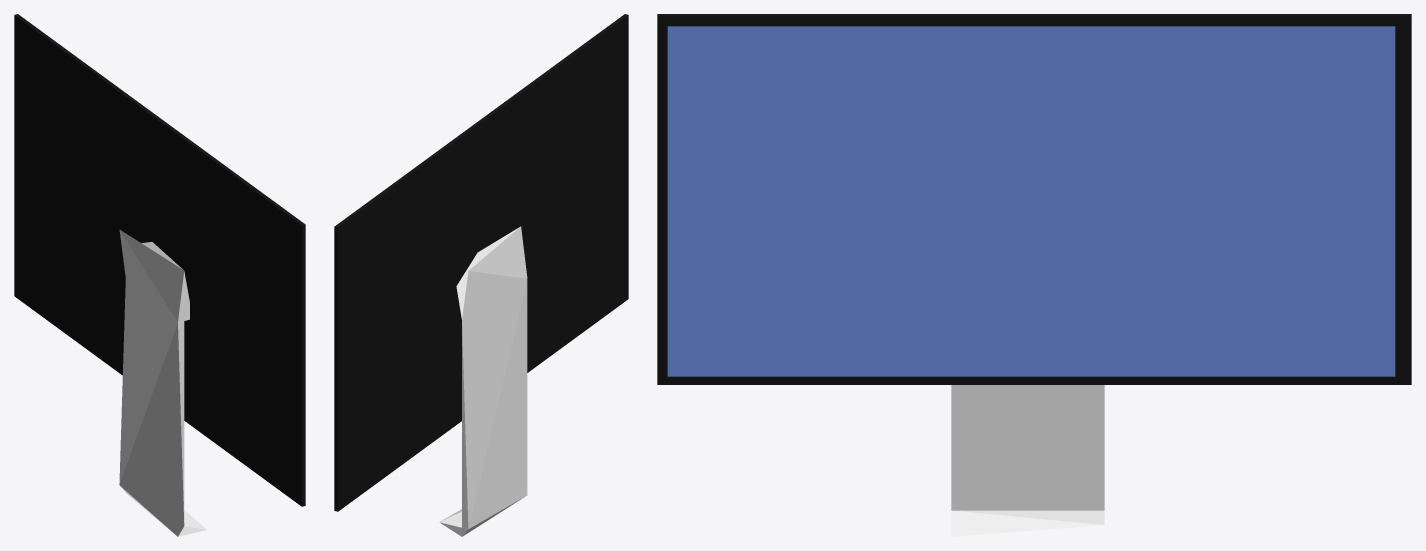
Rendered from Level1Monitor.fbx.
3 renders of one model, left to right at view 1: azimuth 30°, elevation 25°; view 2: azimuth 150°, elevation 25°; view 3: azimuth 270°, elevation 25°, orthographic. The views are drawn at different scales.
Visible parts, largest first — view 1: Cube.001, Cube; view 2: Cube.001, Cube; view 3: Plane, Cube.001, Cube.
Part boxes in pixels (x1,y1,x2,y2): Cube.001: (14, 14, 305, 506); Cube: (119, 229, 206, 536); Cube.001: (334, 14, 628, 511); Cube: (439, 226, 527, 536); Plane: (667, 26, 1395, 376); Cube.001: (657, 14, 1411, 384); Cube: (951, 385, 1104, 536).
Size of the model in its own units: 13.95 by 179 by 239.
